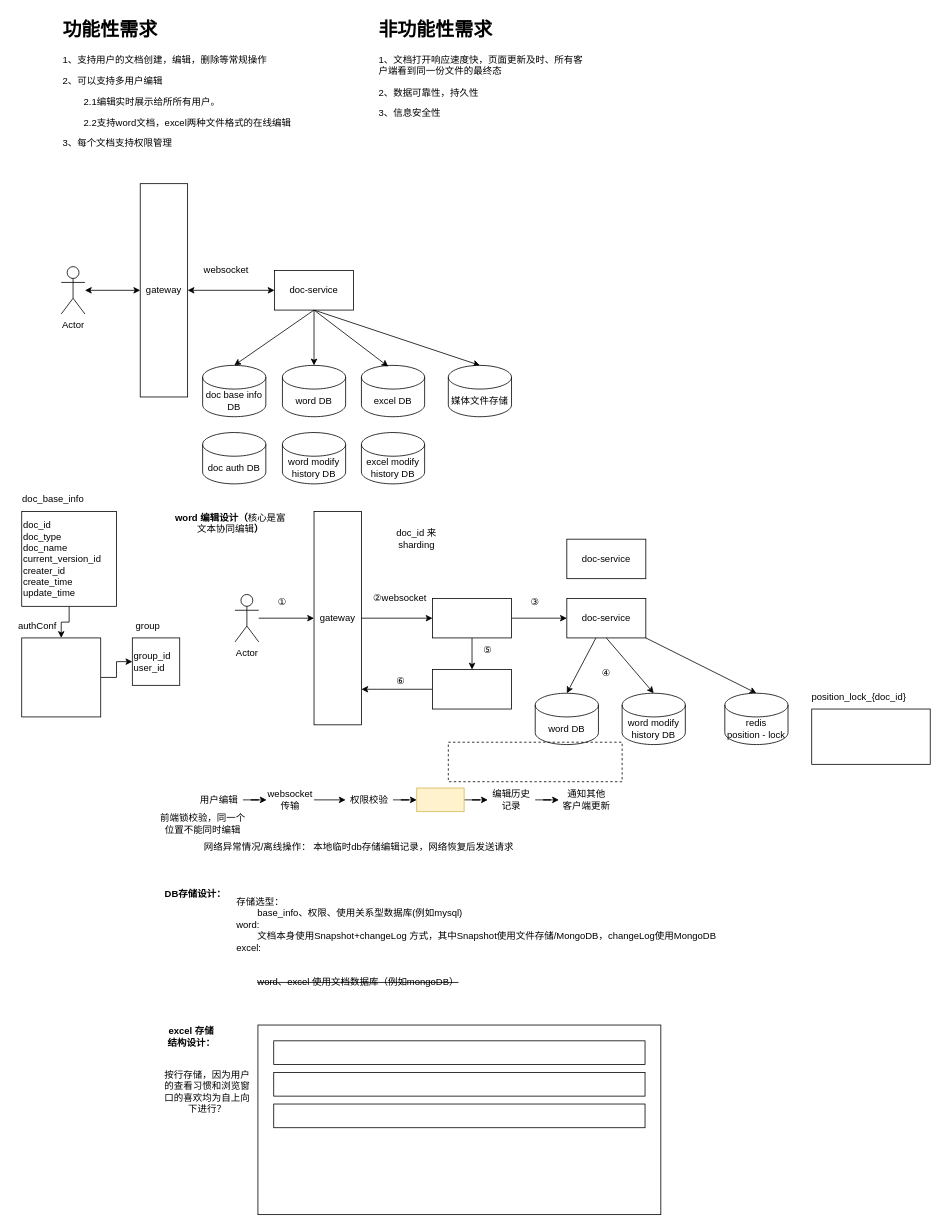
The diagram is 944 pixels wide and 1228 high, and some of its shapes have lost their labels. Here are the shapes that lost their labels. From the top down, the centre of each, then its label:
At [472,618]: "协作服务 (OT处理并行操作)".
At [61,677]: "authId auth_targe_id auth_target_type（user/group） permisson_type".
At [472,689]: "事件通知 MQ".
At [870,736]: "user_id user_name user_image position".
At [535,761]: "文档较大的时候直接使用文件存储引擎去存储二级制文件。 再利用快照和编辑记录进行制定版本查看".
At [440,799]: "操作合并OT".
